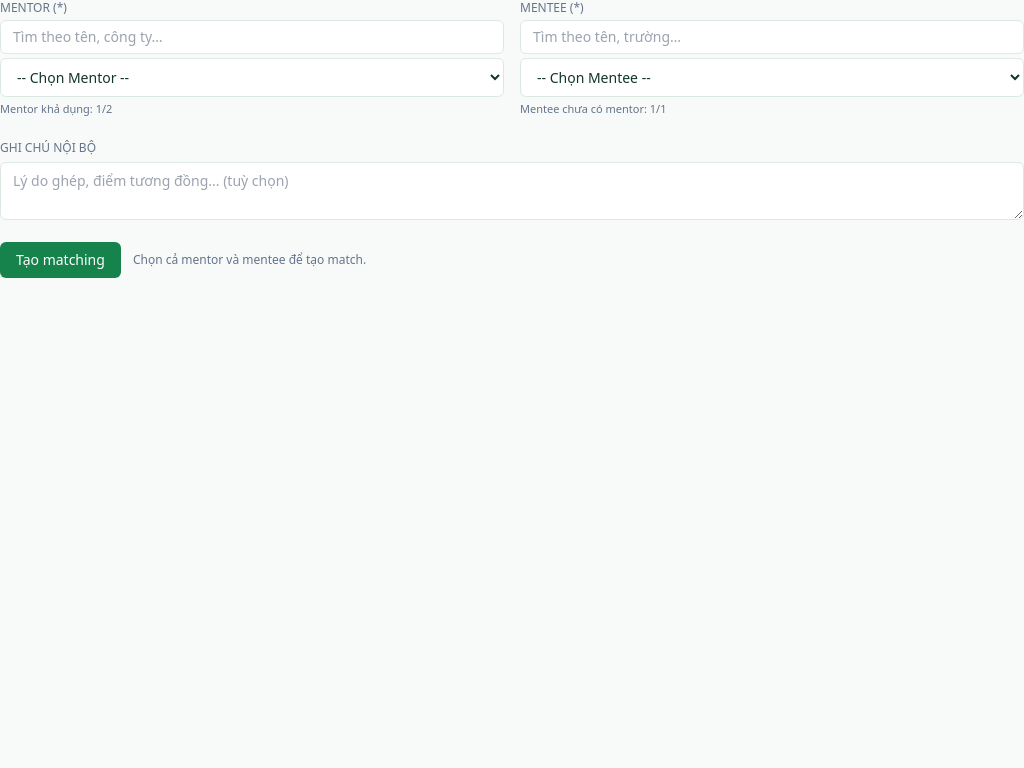
J · opening and closing the mentor drawer preserves matching state › keeps the mentor, the mentee, the search text and the note
In the field with placeholder "Tìm theo tên, công ty…": (252, 37) [0,20,504,54], type "Alpha"
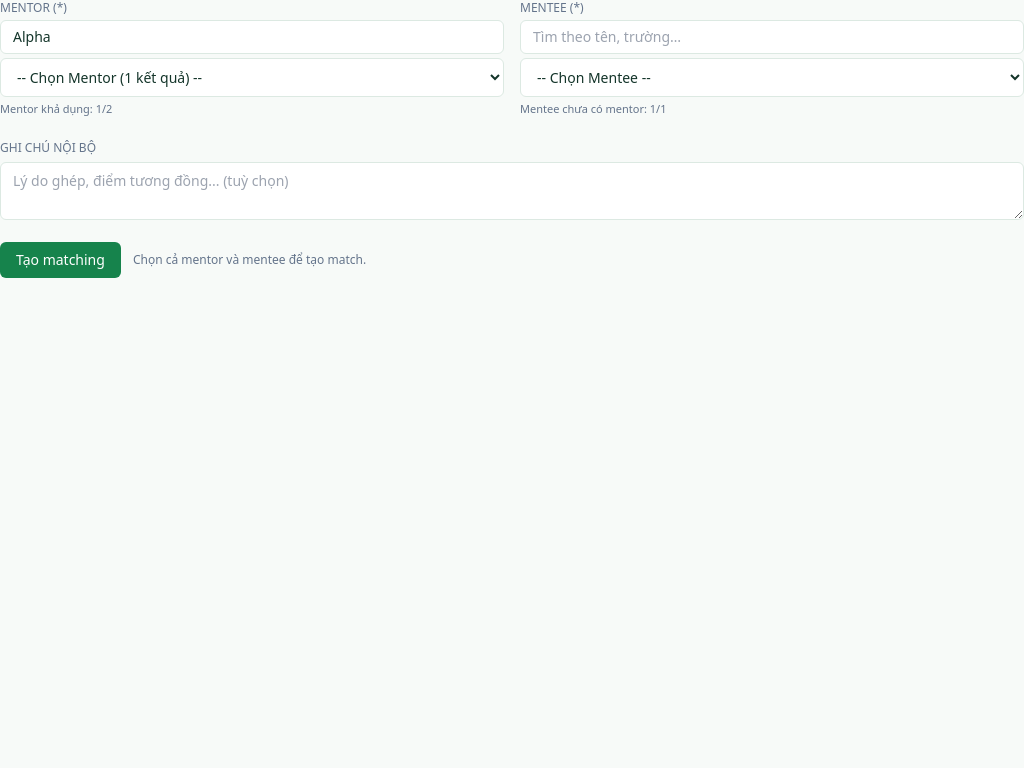
Select "[0/2] Nguyen Mentor Alpha — Acme" in the dropdown named "Chọn Mentor" below "Mentor (*)": (252, 78) [0,58,504,97]
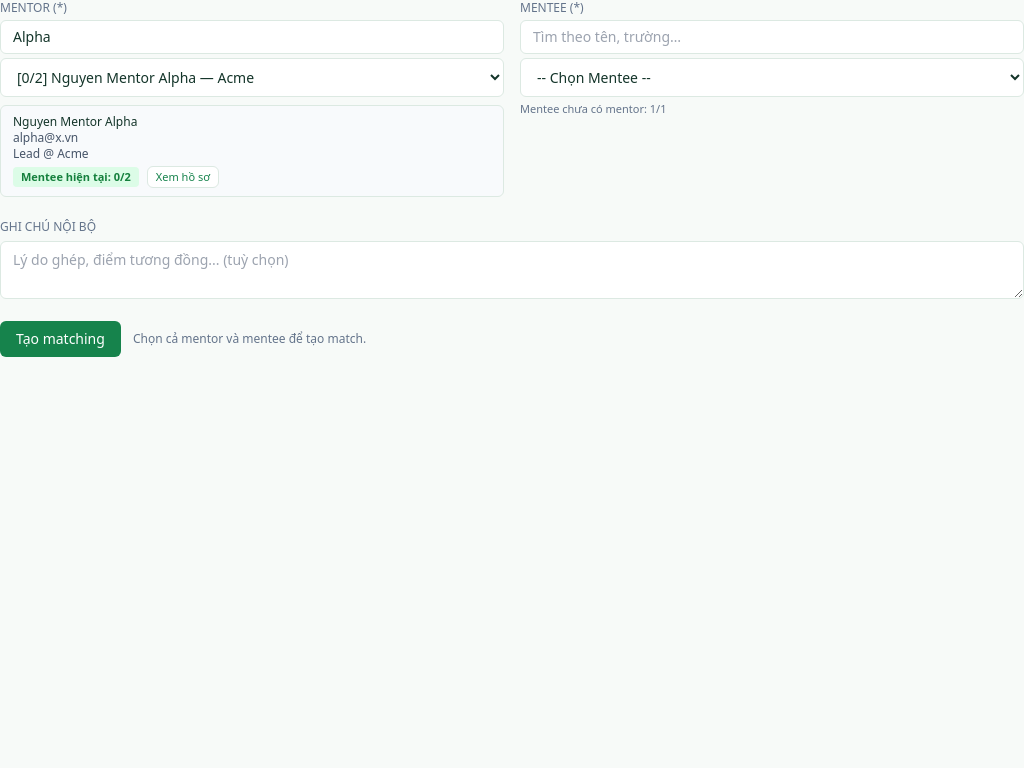
Select "Le Mentee One (UEH)" in the dropdown named "Chọn Mentee" below "Mentee (*)": (772, 78) [520,58,1023,97]
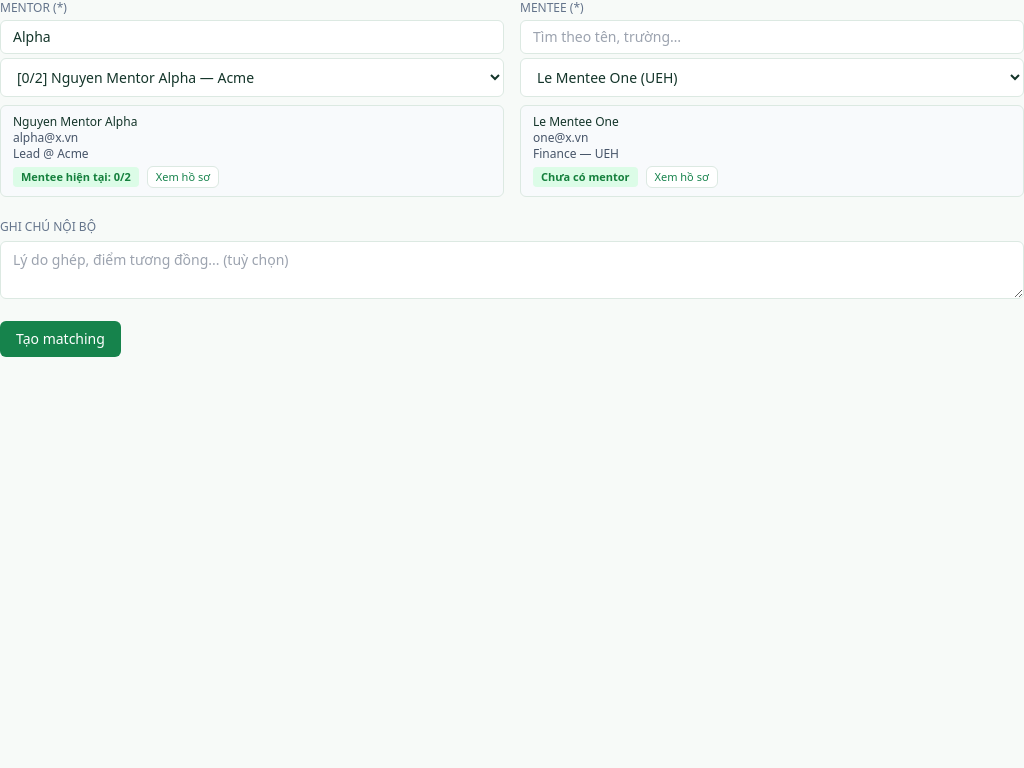
In the text box with placeholder "Lý do ghép, điểm tương đồng... (tuỳ chọn)": (512, 270) [0,241,1023,299], type "ghi chú nội bộ"
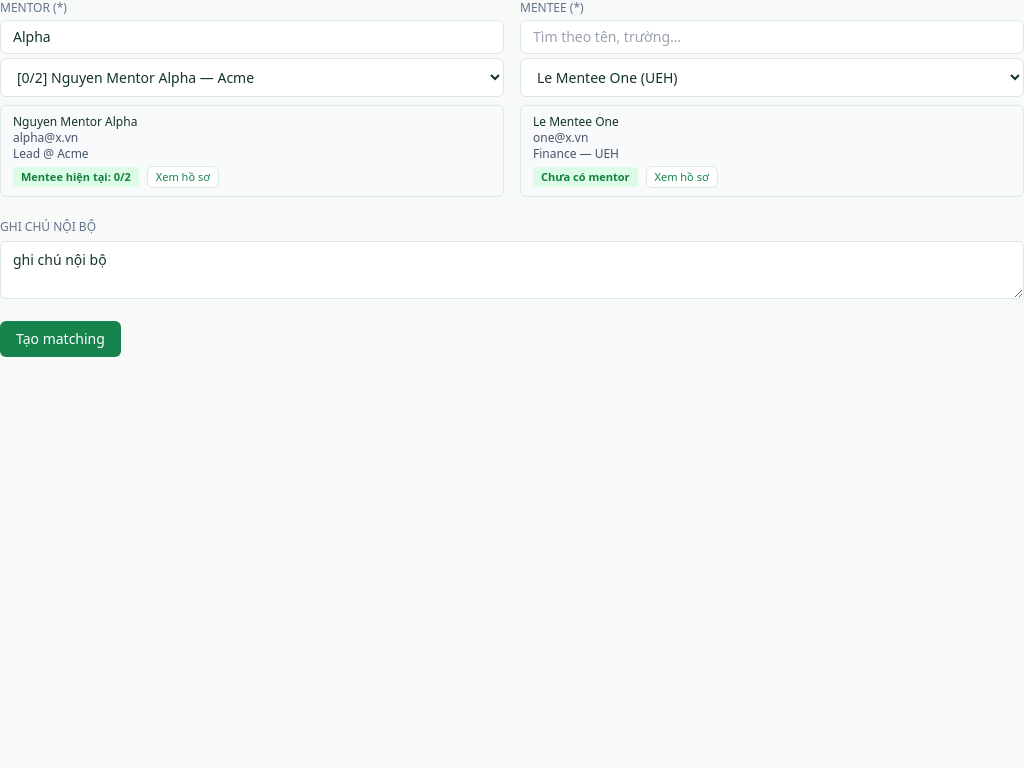
Click the button "Xem hồ sơ" next to "0/2": (183, 177) [147,166,219,188]
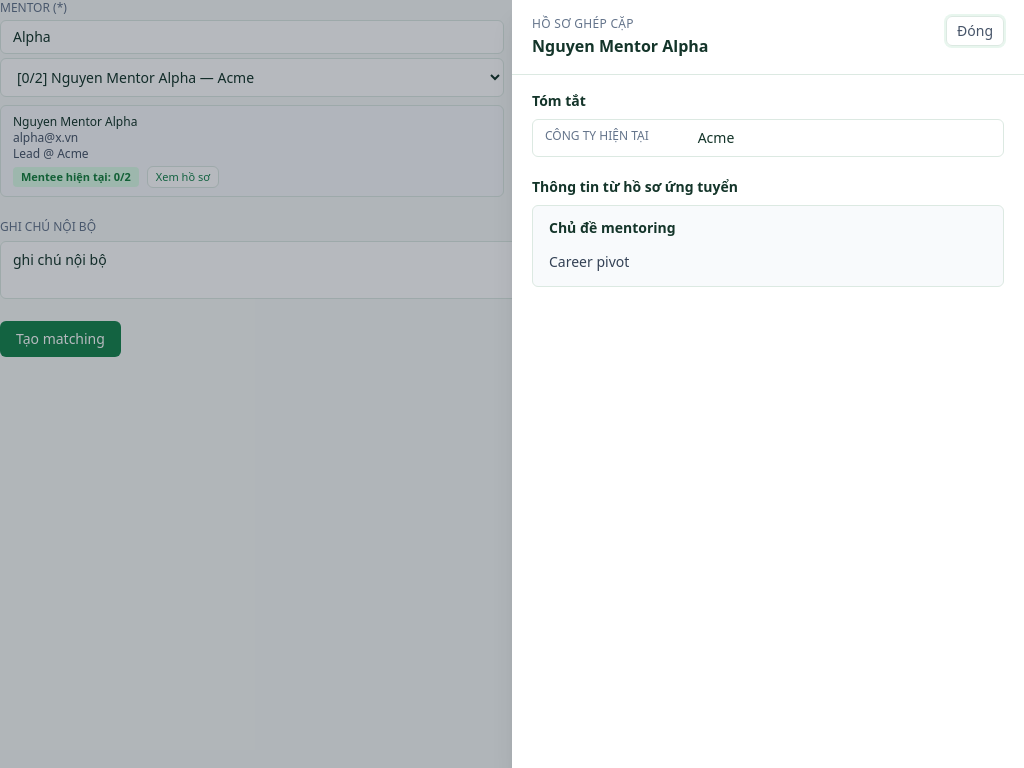
Now the heading "Chủ đề mentoring" is shown, box [549,218,676,238]
Click the button "Đóng": (975, 31) [946,16,1004,46]
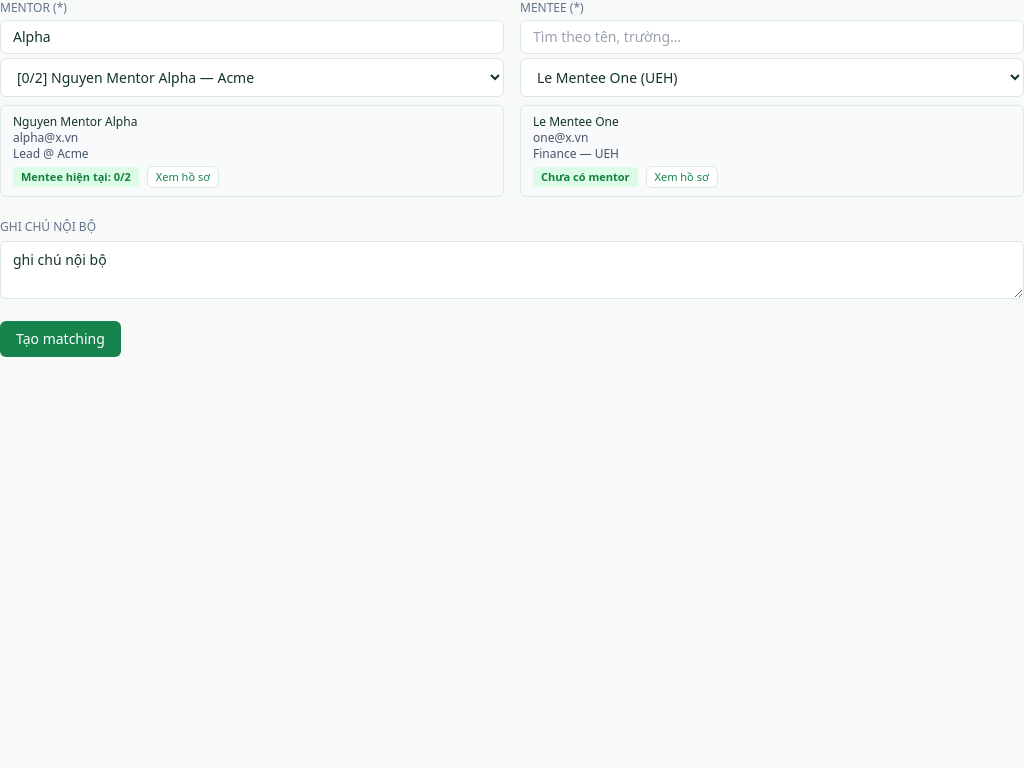
Now the heading "Chủ đề mentoring" is gone
